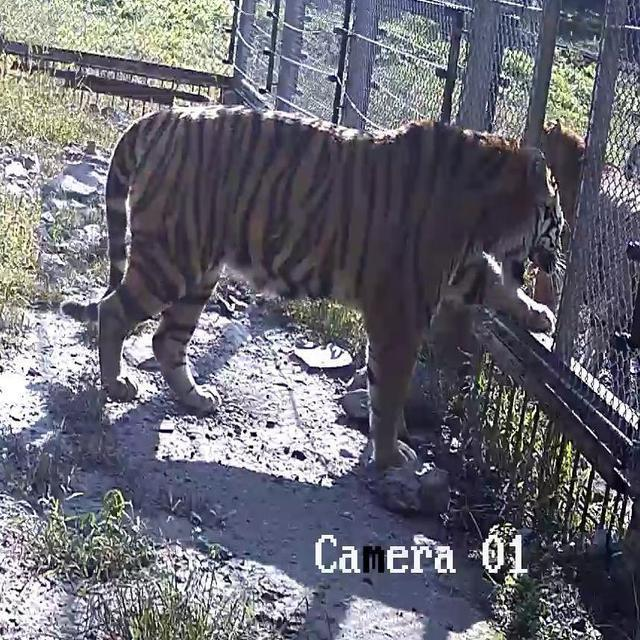tiger: (61, 102, 568, 473), (425, 119, 639, 377), (531, 119, 639, 351)
